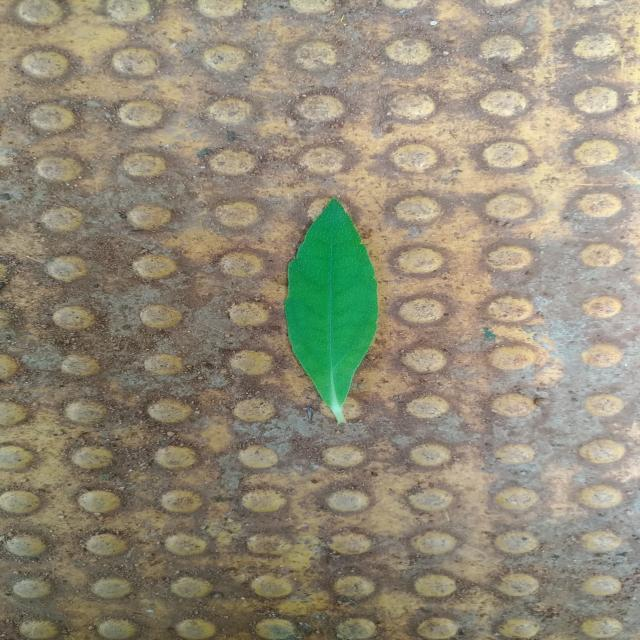bringaraja: (284, 198, 378, 424)
